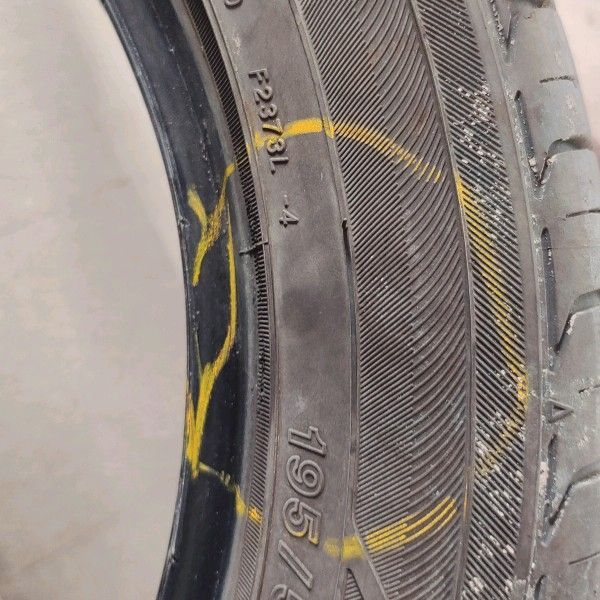CBU: (274, 247, 379, 406)
